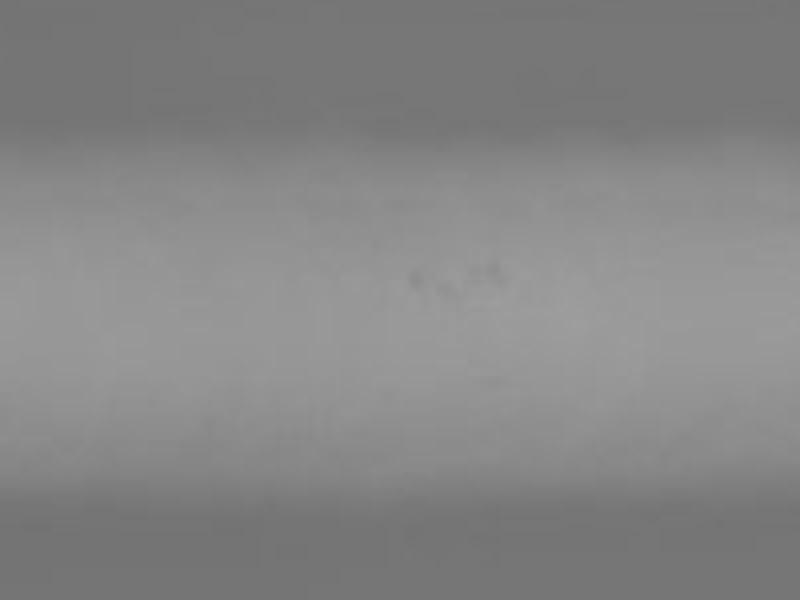defect: (487, 261, 517, 289), (437, 280, 460, 302), (404, 268, 422, 286)
